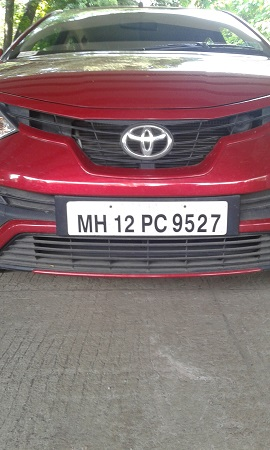licenseplate: (63, 200, 230, 240)
